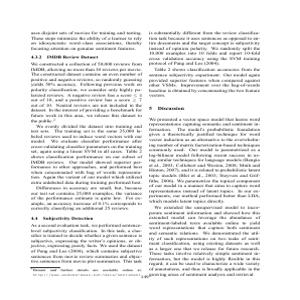text: (145, 30, 262, 280), (29, 29, 142, 277)
